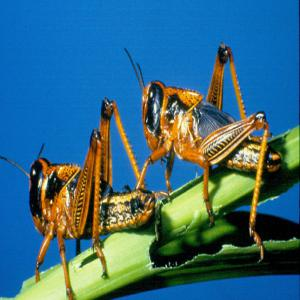locust: (140, 49, 299, 180), (15, 125, 153, 228)
